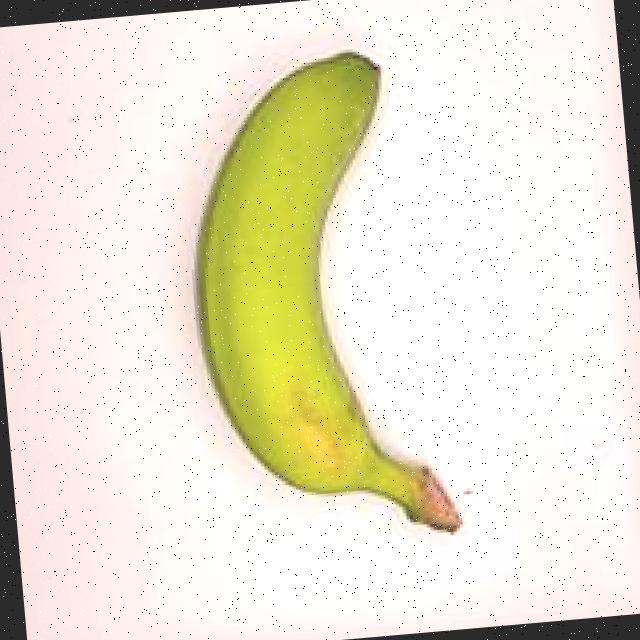Unripe: (116, 16, 497, 561)
